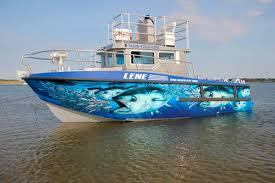fishing boat: (17, 10, 257, 124)
